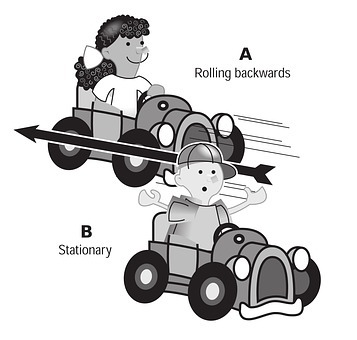car: (111, 206, 336, 333), (40, 76, 253, 189)
person: (124, 141, 268, 242), (86, 13, 164, 114)
